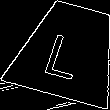L_N: (44, 23, 93, 80)
